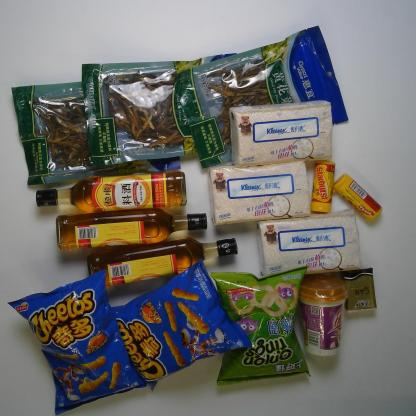Candy: (331, 170, 383, 224), (309, 156, 337, 215)
Dried Food: (171, 23, 350, 175), (77, 51, 242, 170), (8, 79, 187, 188)
Instant Drink: (290, 272, 352, 360)
Puffed Food: (4, 267, 150, 416), (107, 255, 256, 394), (202, 264, 314, 388)
Seasoner: (84, 235, 242, 292), (32, 167, 189, 215), (51, 207, 210, 252)
Tissue: (252, 205, 364, 281), (223, 96, 336, 171), (204, 158, 315, 229), (338, 263, 379, 315)
